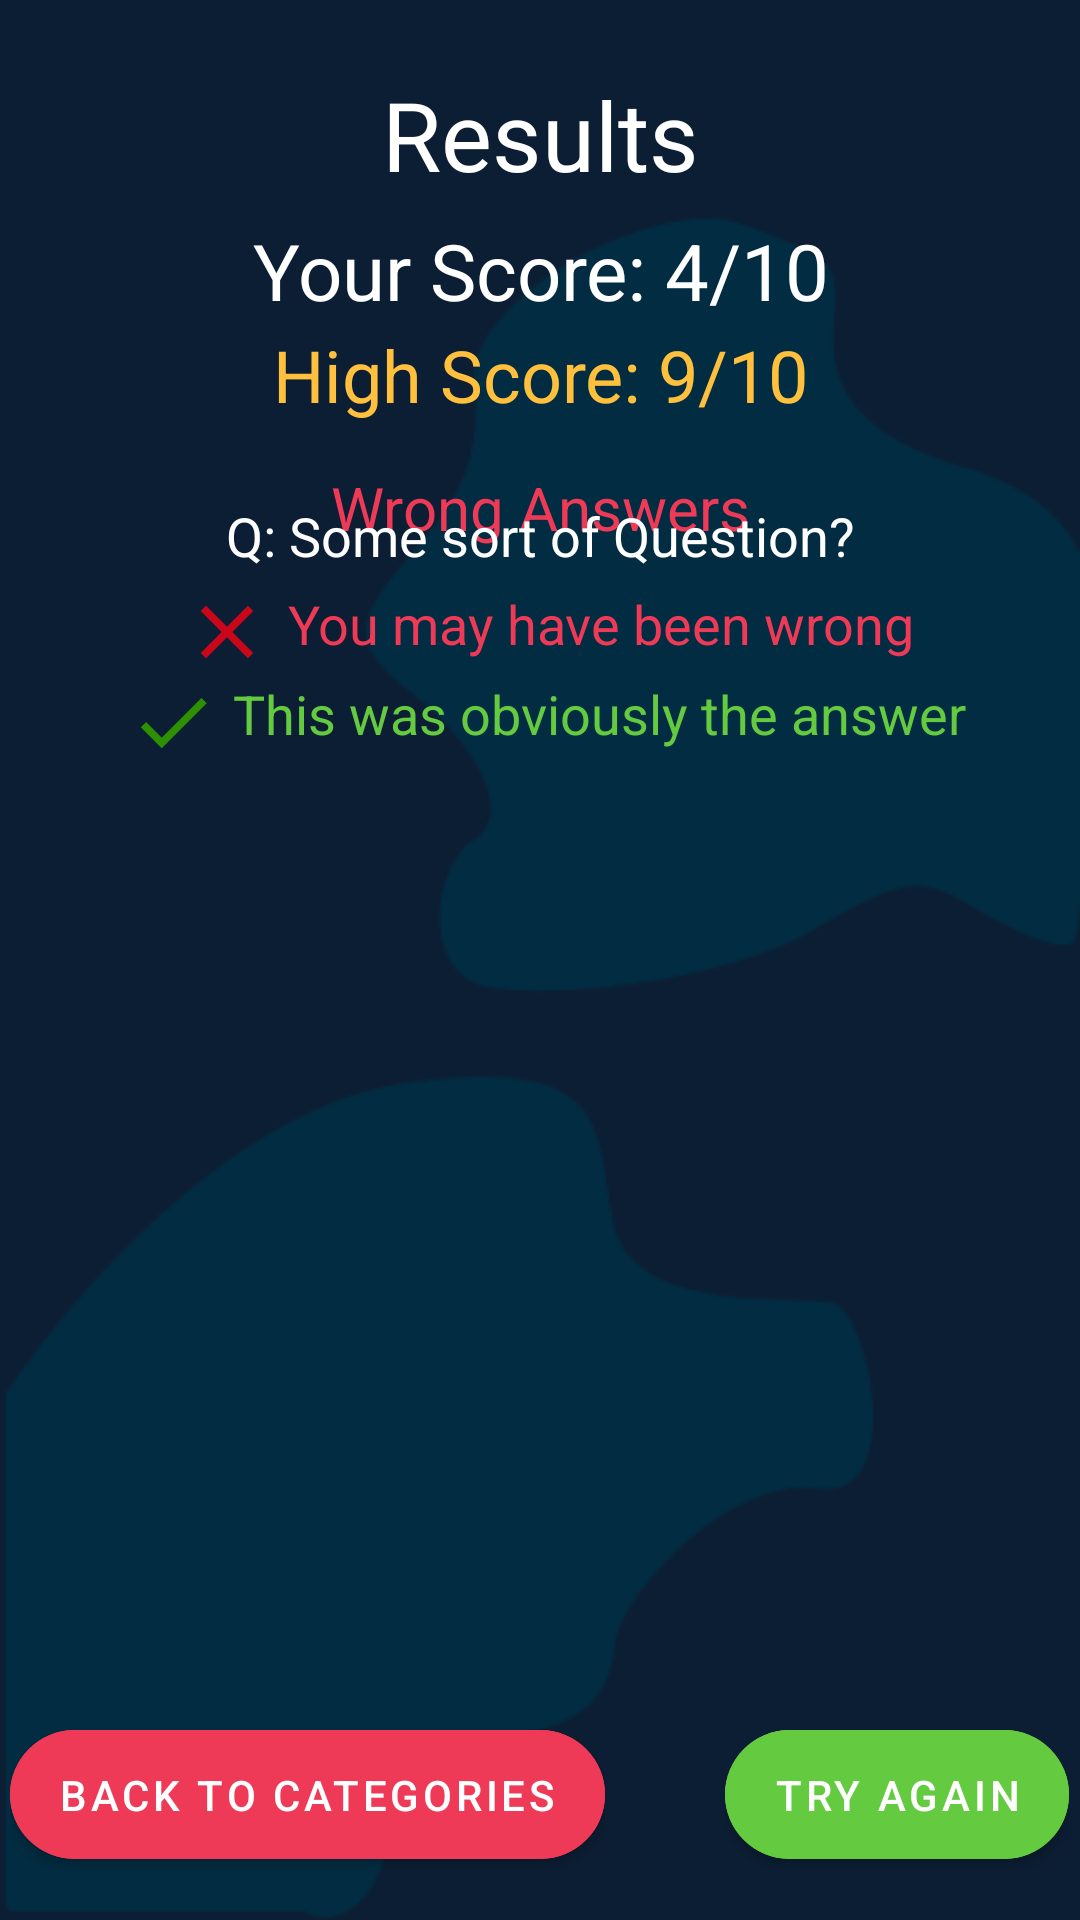

Screen size 1080*1920. Icon name, then its box in pixels as bbox=[x1, y1, x2, y2]:
check: bbox=[141, 698, 207, 748]
clear: bbox=[201, 606, 253, 658]
